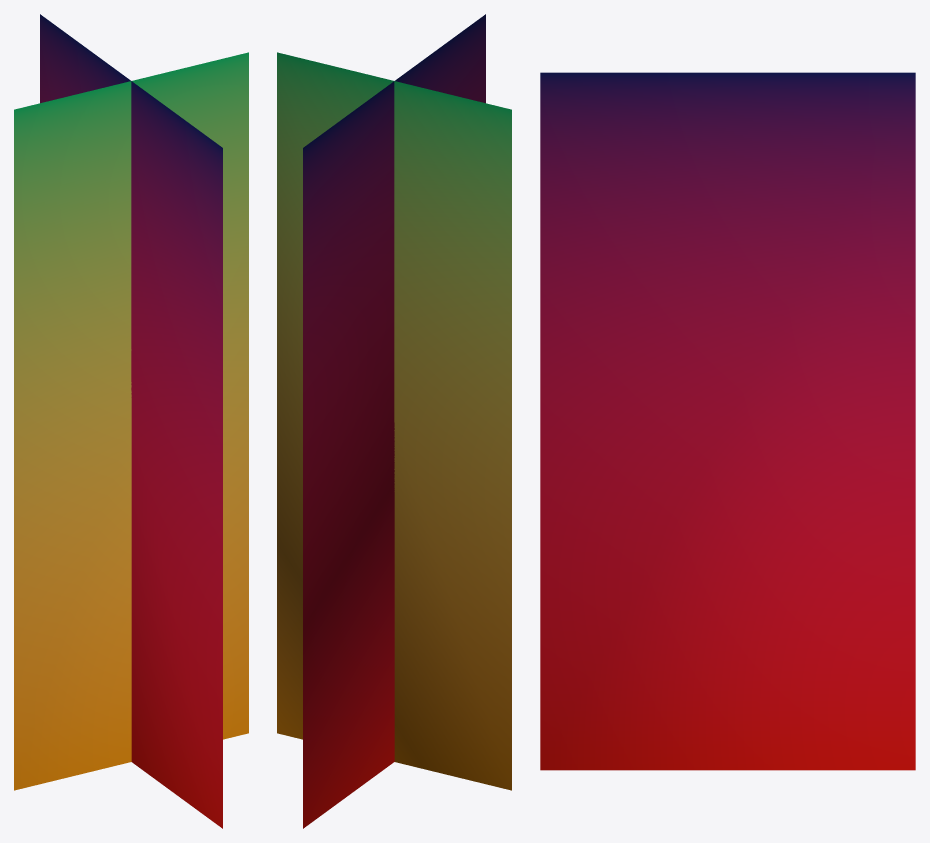
File: SM_Flower_Cornflower_C_LOD3.fbx
3 renders of one model, left to right at view 1: azimuth 30°, elevation 25°; view 2: azimuth 150°, elevation 25°; view 3: azimuth 270°, elevation 25°, orthographic. The views are drawn at different scales.
Visible parts, largest first — view 1: SM_Flower_Cornflower_C_LOD3; view 2: SM_Flower_Cornflower_C_LOD3; view 3: SM_Flower_Cornflower_C_LOD3.
Boxes of the visible parts, box(x1,y1,x2,y2) form: SM_Flower_Cornflower_C_LOD3: box(14, 14, 248, 828); SM_Flower_Cornflower_C_LOD3: box(277, 14, 511, 828); SM_Flower_Cornflower_C_LOD3: box(540, 72, 915, 770).
Bounding box in the file's own units: 0.2625 × 0.7274 × 0.3545.
